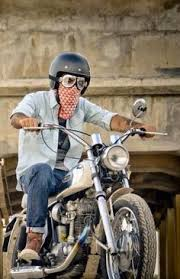helmet: (46, 50, 93, 107)
